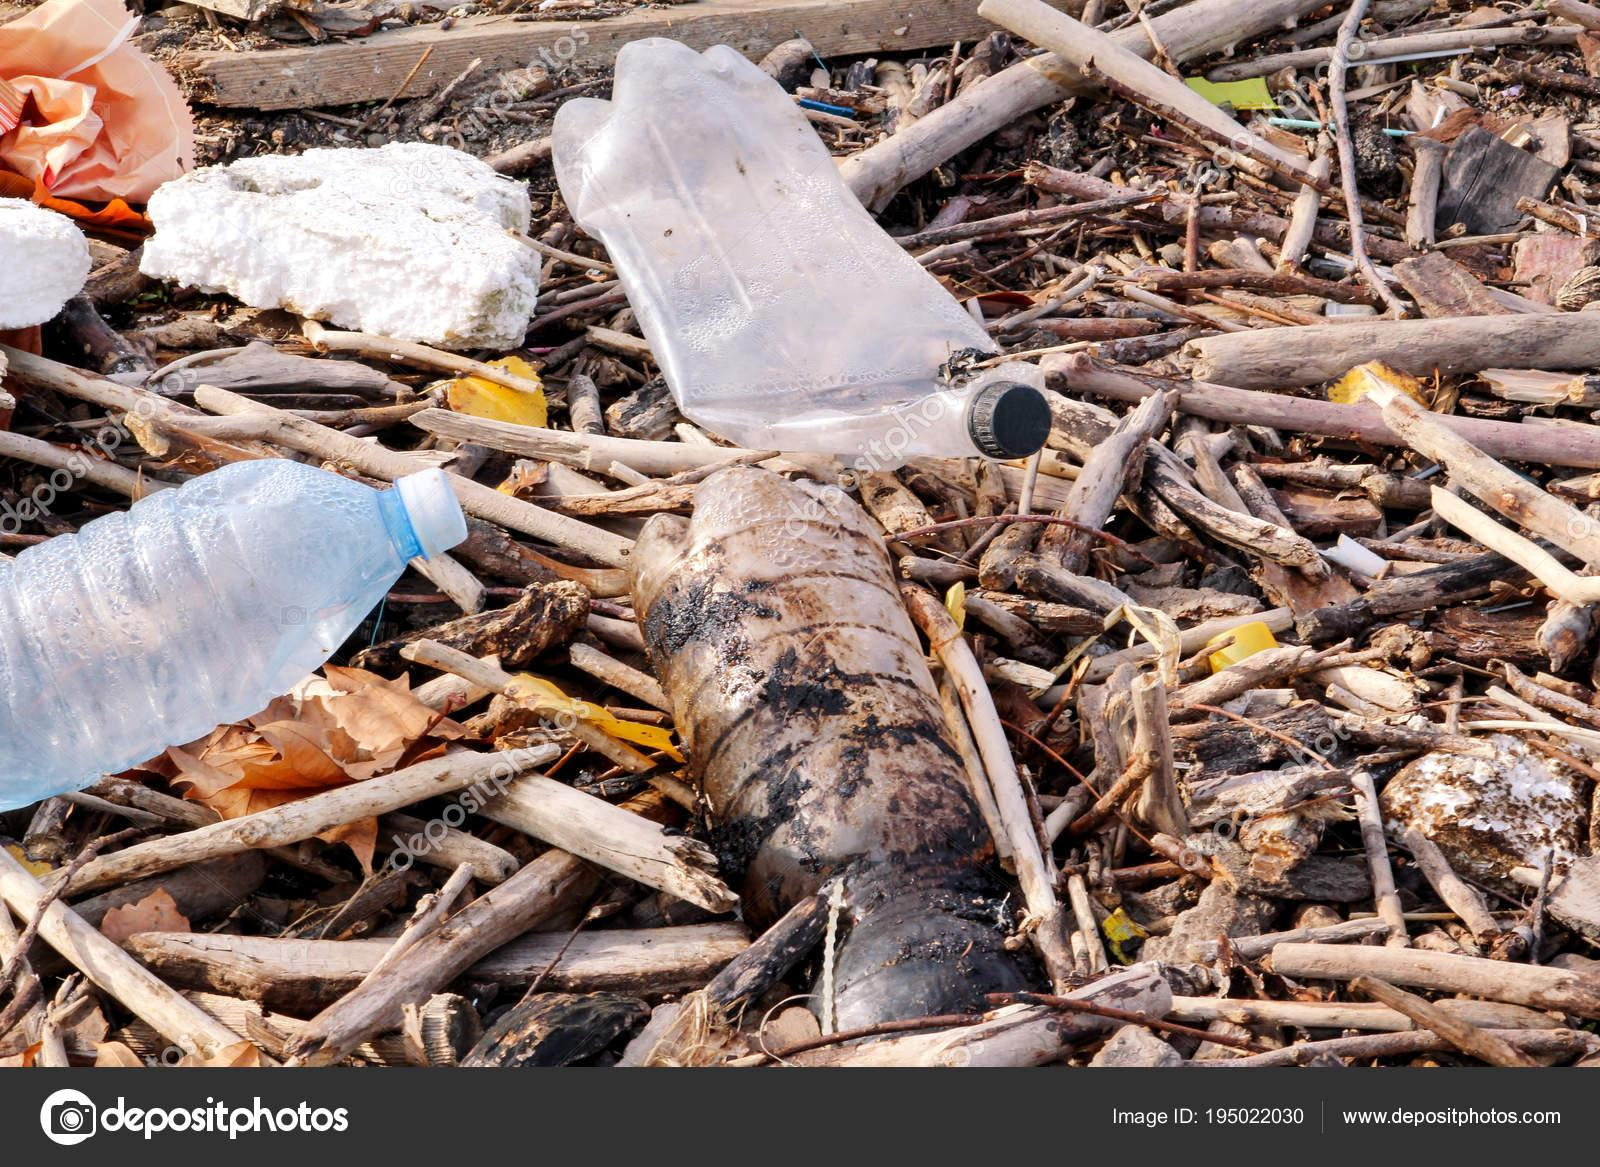bottle: (524, 14, 1094, 507), (0, 434, 347, 860)
